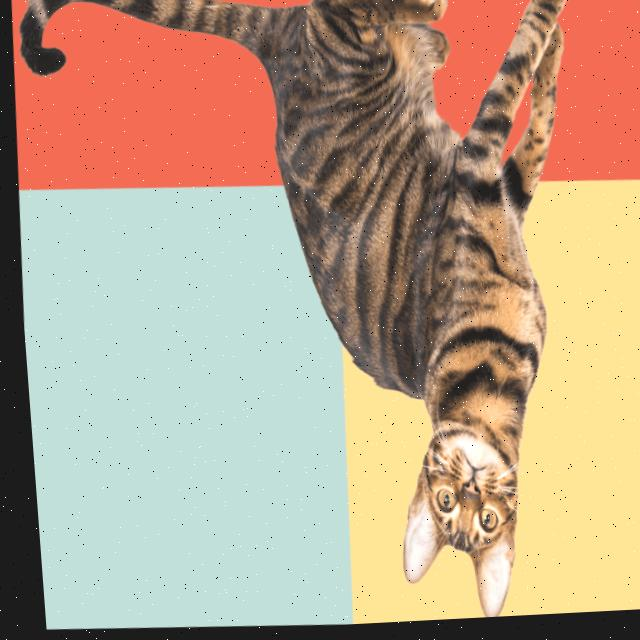Toyger: (0, 0, 621, 640)
